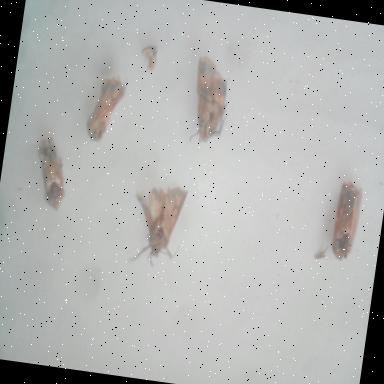abw: (122, 177, 192, 273), (179, 47, 238, 150), (79, 66, 131, 150), (26, 130, 75, 214), (325, 174, 369, 266)
